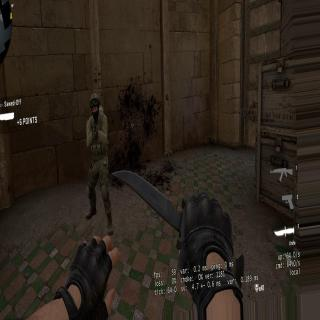CT-Body: (83, 89, 114, 235)
CT-Head: (88, 94, 100, 114)
